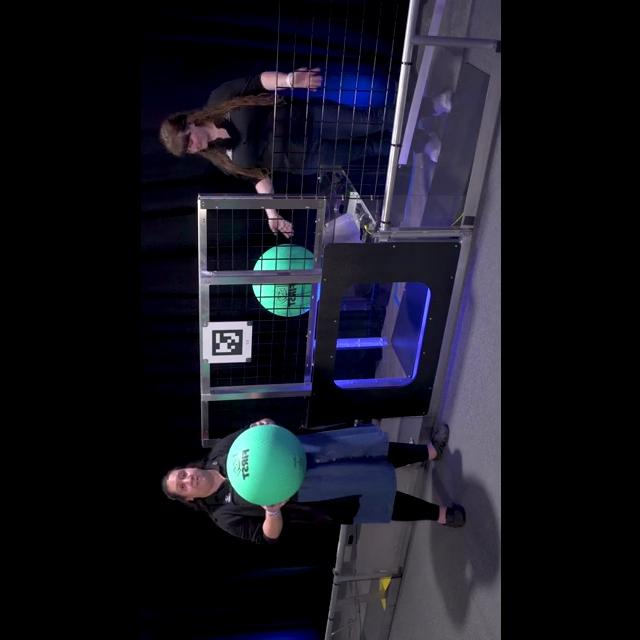ALGAE: (224, 422, 306, 506), (248, 243, 316, 317)
